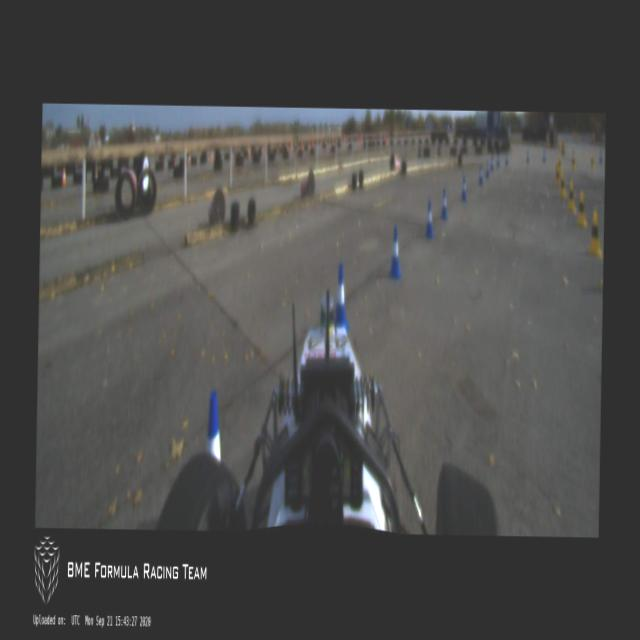blue_cone: (206, 388, 222, 464), (333, 264, 350, 332), (388, 226, 402, 279), (424, 200, 434, 238), (440, 189, 448, 217), (460, 174, 468, 200), (478, 164, 483, 187), (489, 155, 494, 171), (598, 148, 602, 167), (485, 160, 489, 178), (496, 152, 500, 166), (526, 148, 530, 162), (504, 150, 508, 164), (542, 147, 546, 161)
yellow_cone: (587, 210, 602, 258), (577, 194, 586, 228), (559, 170, 567, 201), (568, 183, 576, 212), (554, 162, 561, 184), (571, 154, 577, 172), (590, 152, 594, 170)
